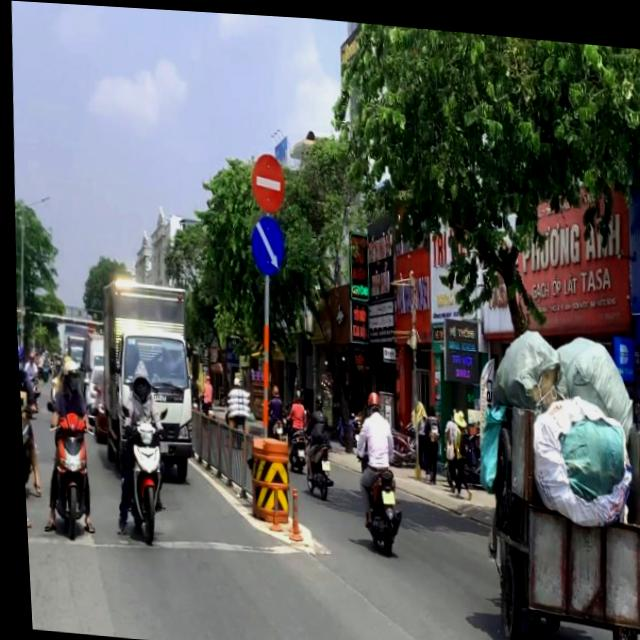Cam di nguoc chieu: (247, 148, 286, 210)
Vong chuong ngai vat sang phai: (246, 210, 284, 274)
